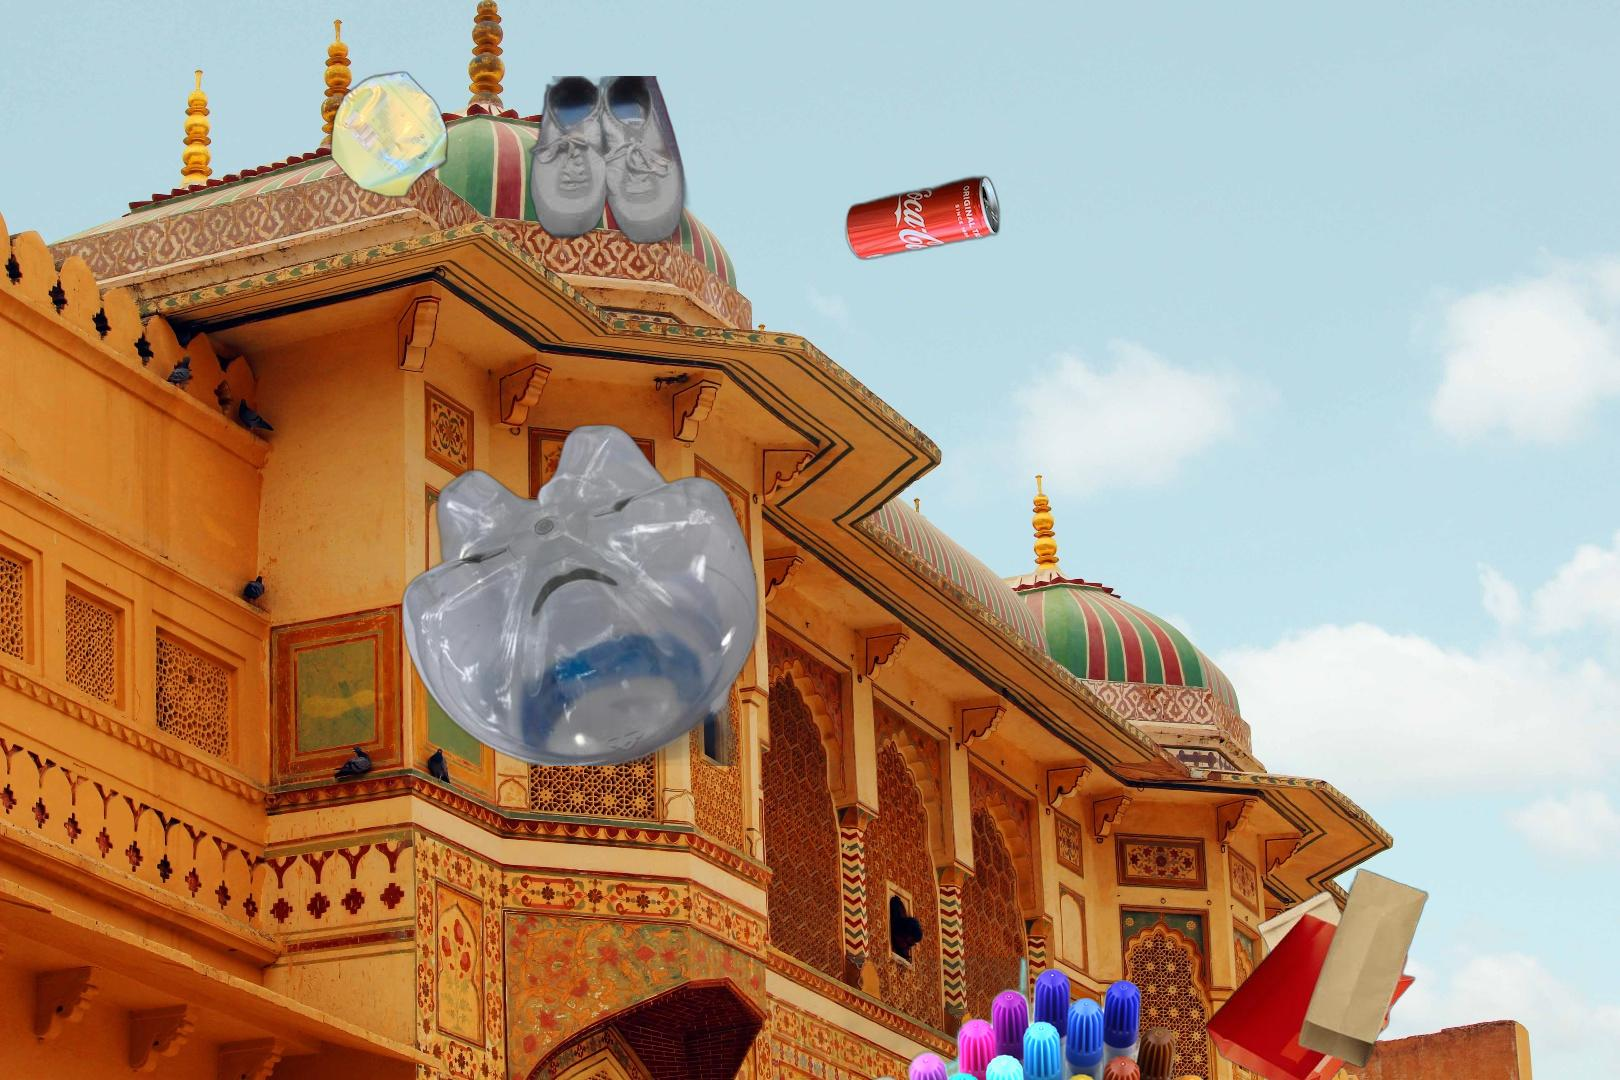metal-cans: (327, 66, 452, 202), (843, 171, 1004, 266)
paper-bag: (1204, 867, 1431, 1080)
penholder: (656, 957, 1219, 1080)
plastic-bottles: (398, 421, 761, 765)
shoes: (523, 76, 708, 243)
